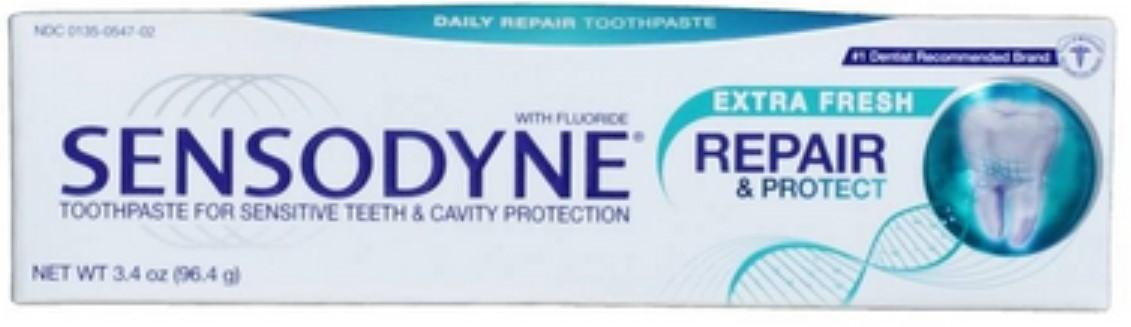toothpaste: (7, 8, 1127, 310)
